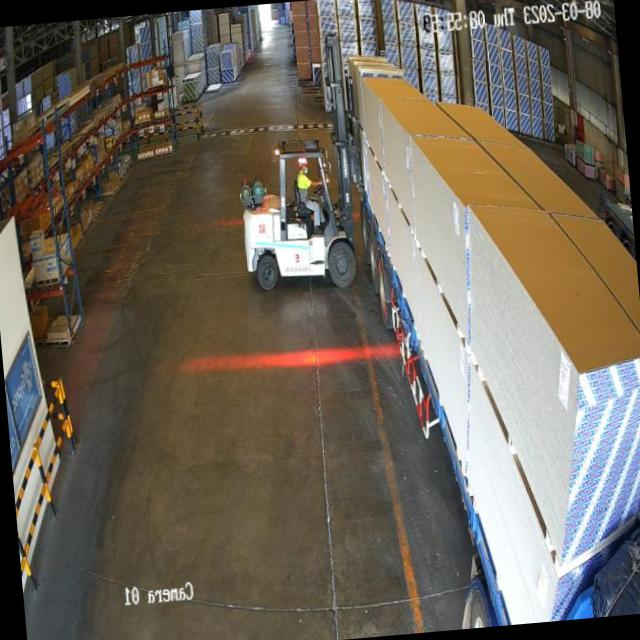driver: (286, 151, 327, 244)
forklift: (233, 127, 364, 300)
